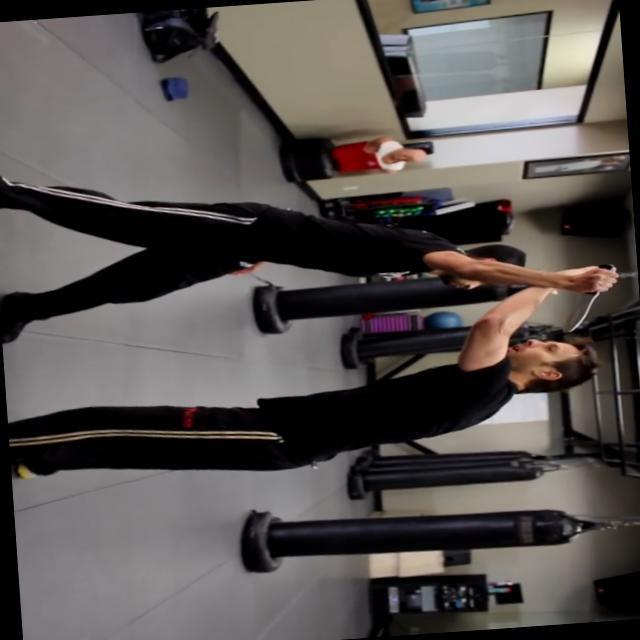knife: (552, 258, 625, 334)
